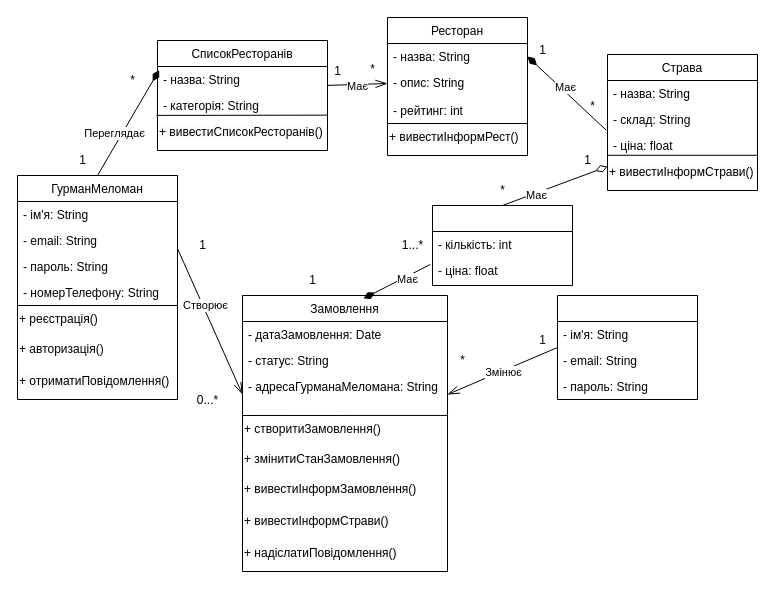
Image size: 776x589. Some labels were removed from this diagram. Each missing label, with the box of its shape:
Кухар: (556, 294, 698, 400)
ОдиницяЗамовлення: (432, 204, 572, 286)
